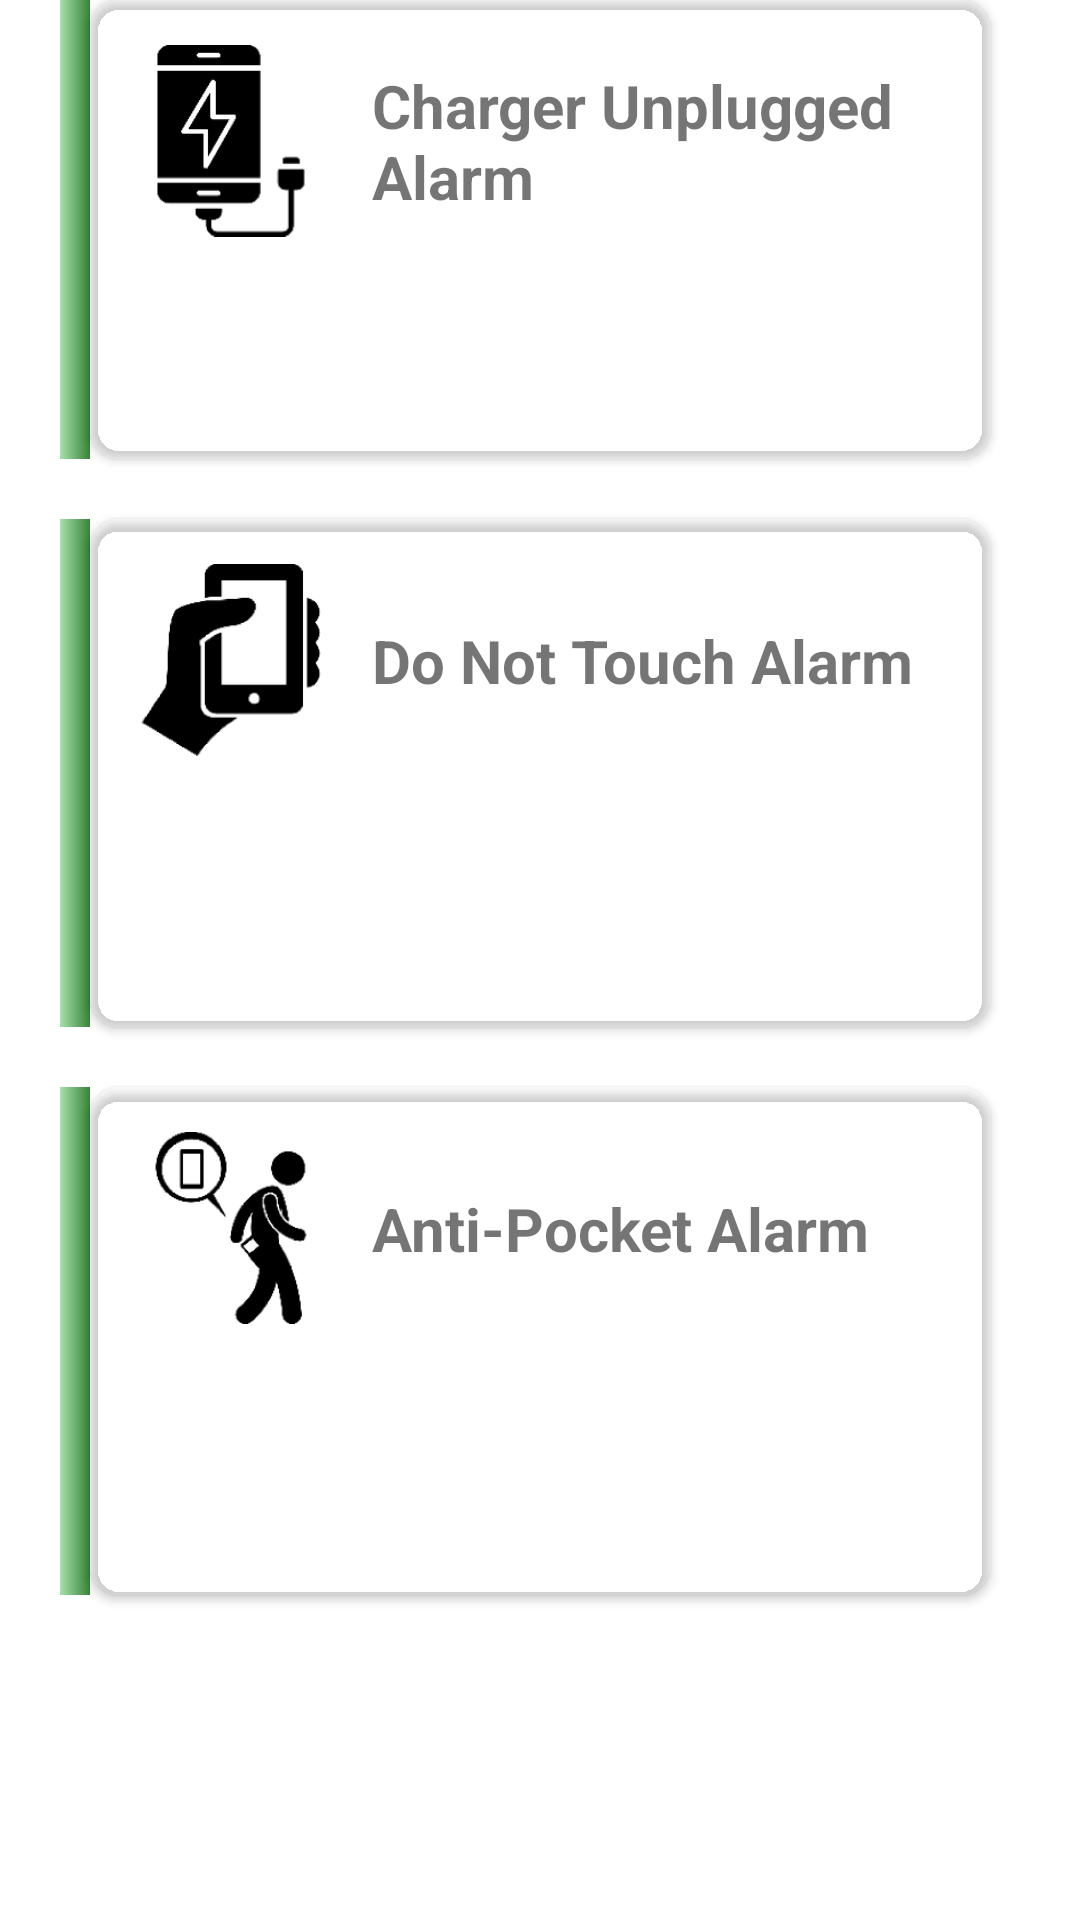

Point at icon controls on the screen. Image size 1080×1920, points as [x,y].
charging alarm: [231,141]
